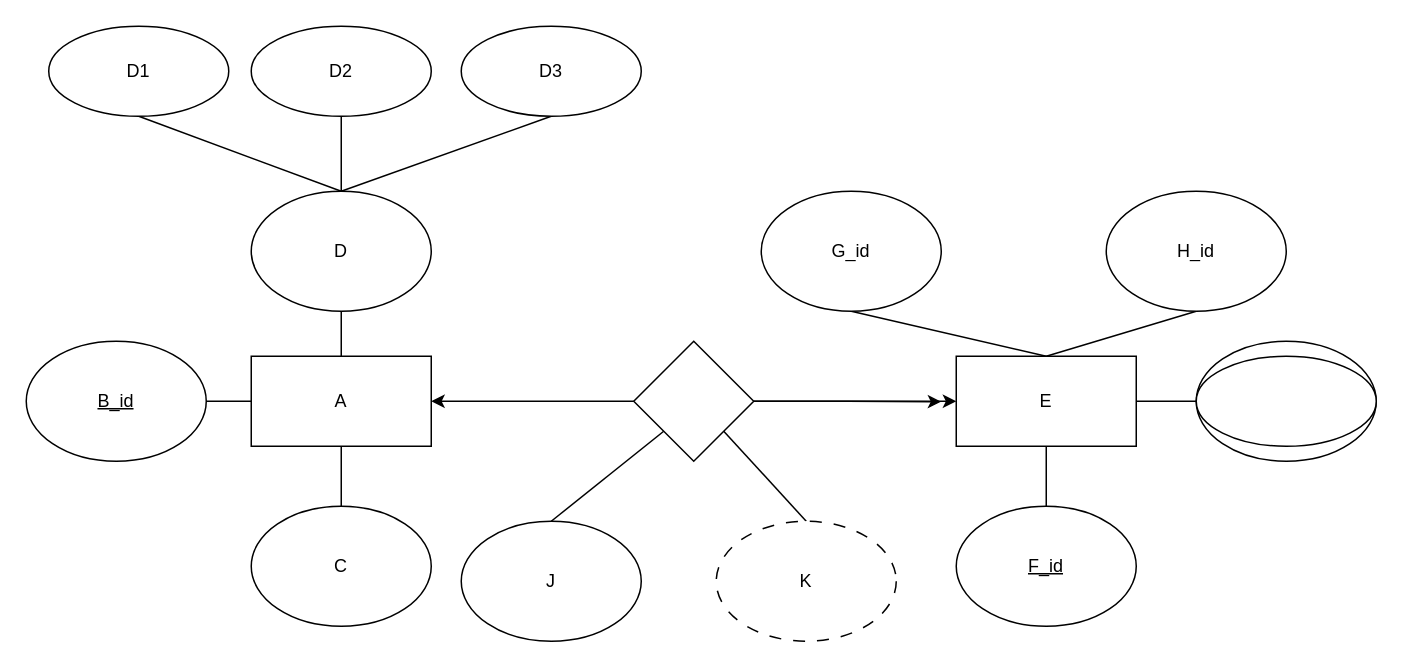
Some shapes in this 1403 by 668 pixel diagram are drawn without their labels. Each missing label, with the centre of its shape:
I_id: (1285,400)
Kapcs: (693,400)
